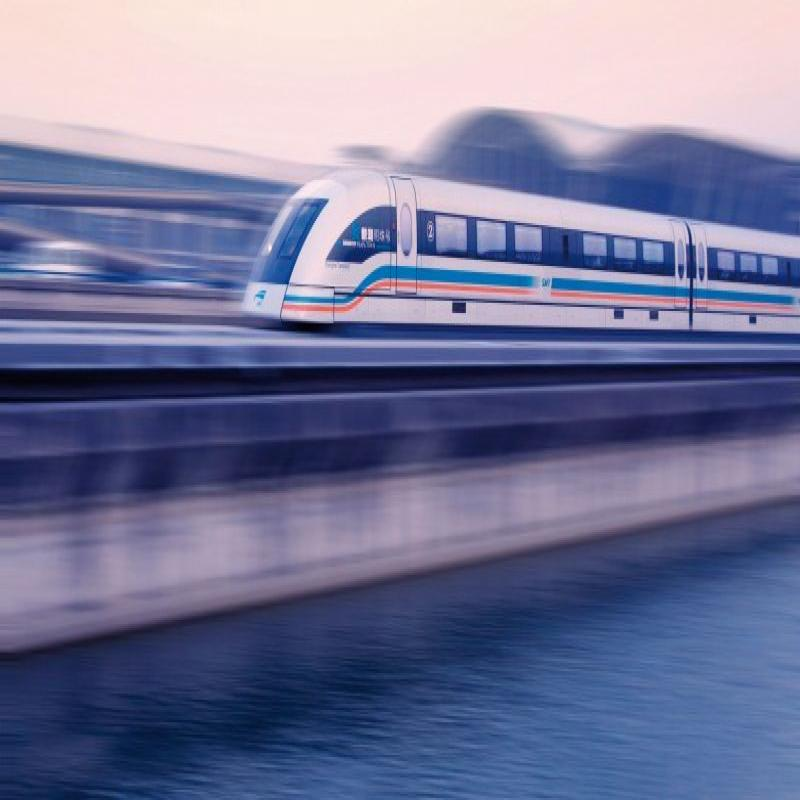train: (249, 174, 800, 335)
